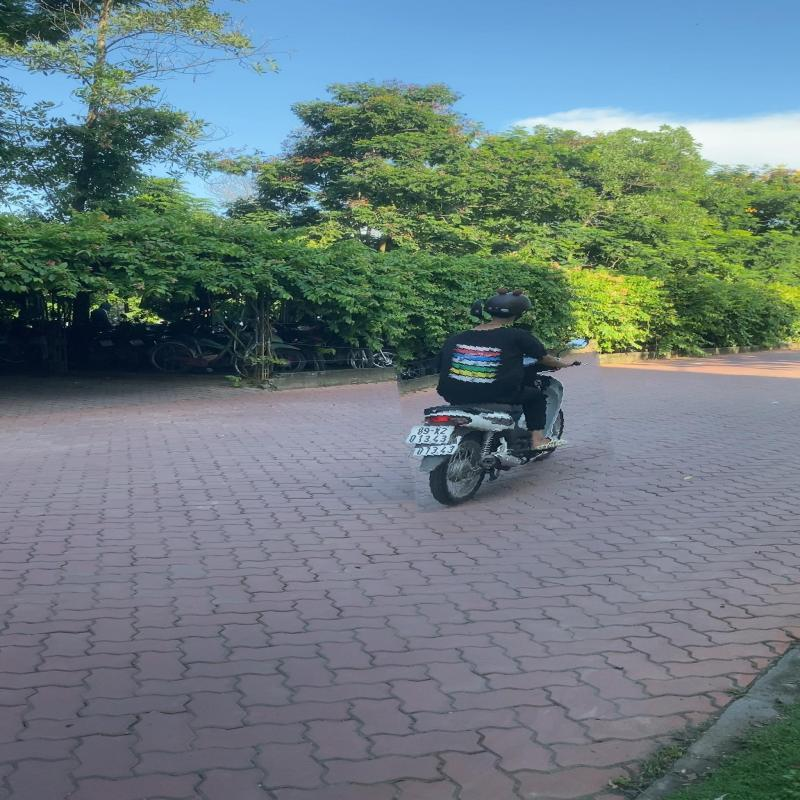helmet: (481, 288, 536, 324)
licenseplate: (404, 422, 456, 448)
motorcyclist: (392, 276, 611, 506)
